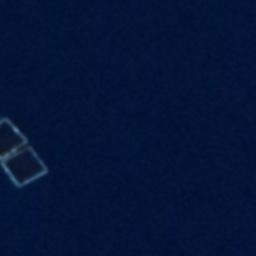square_solid: (1, 142, 50, 193), (1, 113, 32, 167)
